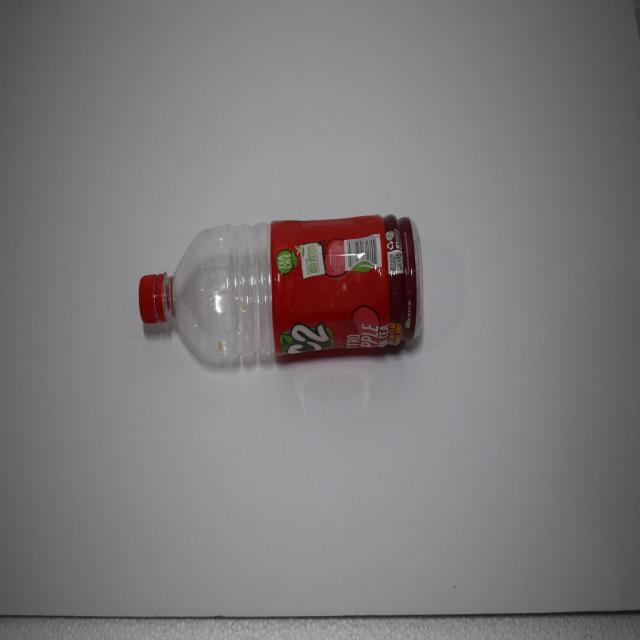bottle: (130, 204, 451, 382)
